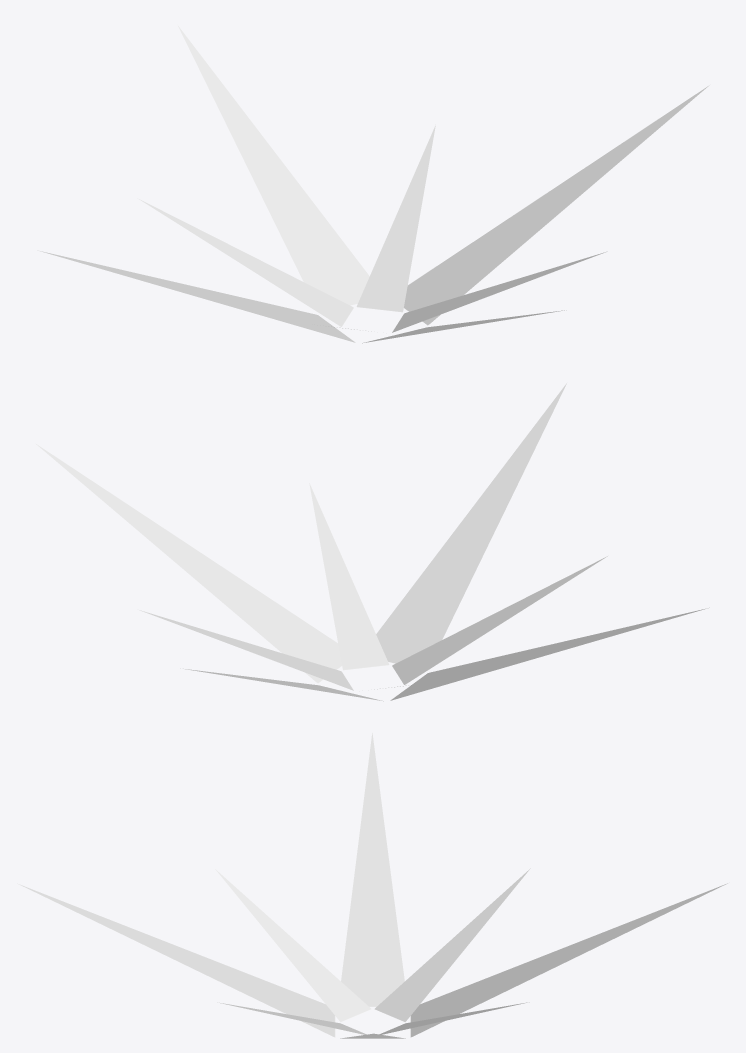
File: Impact_Spikes_Mesh.fbx
The picture shows the model from 3 angles, top to bottom: view 1: azimuth 30°, elevation 25°; view 2: azimuth 150°, elevation 25°; view 3: azimuth 270°, elevation 25°; orthographic projection. The views are drawn at different scales.
Parts seen in each view (by area): view 1: Impact_Spikes_mesh; view 2: Impact_Spikes_mesh; view 3: Impact_Spikes_mesh.
Boxes of the visible parts, box(x1,y1,x2,y2) form: Impact_Spikes_mesh: box(37, 26, 709, 343); Impact_Spikes_mesh: box(36, 383, 709, 701); Impact_Spikes_mesh: box(17, 733, 727, 1038).
Bounding box in the file's own units: 0.7988 × 0.173 × 0.7988.
Materials: 1 (1 with a texture image).
